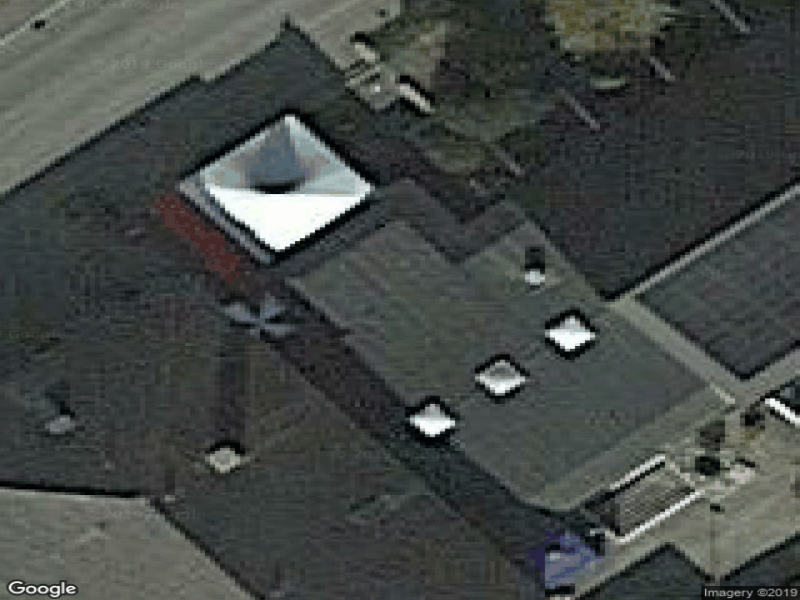pv: (642, 186, 800, 384)
